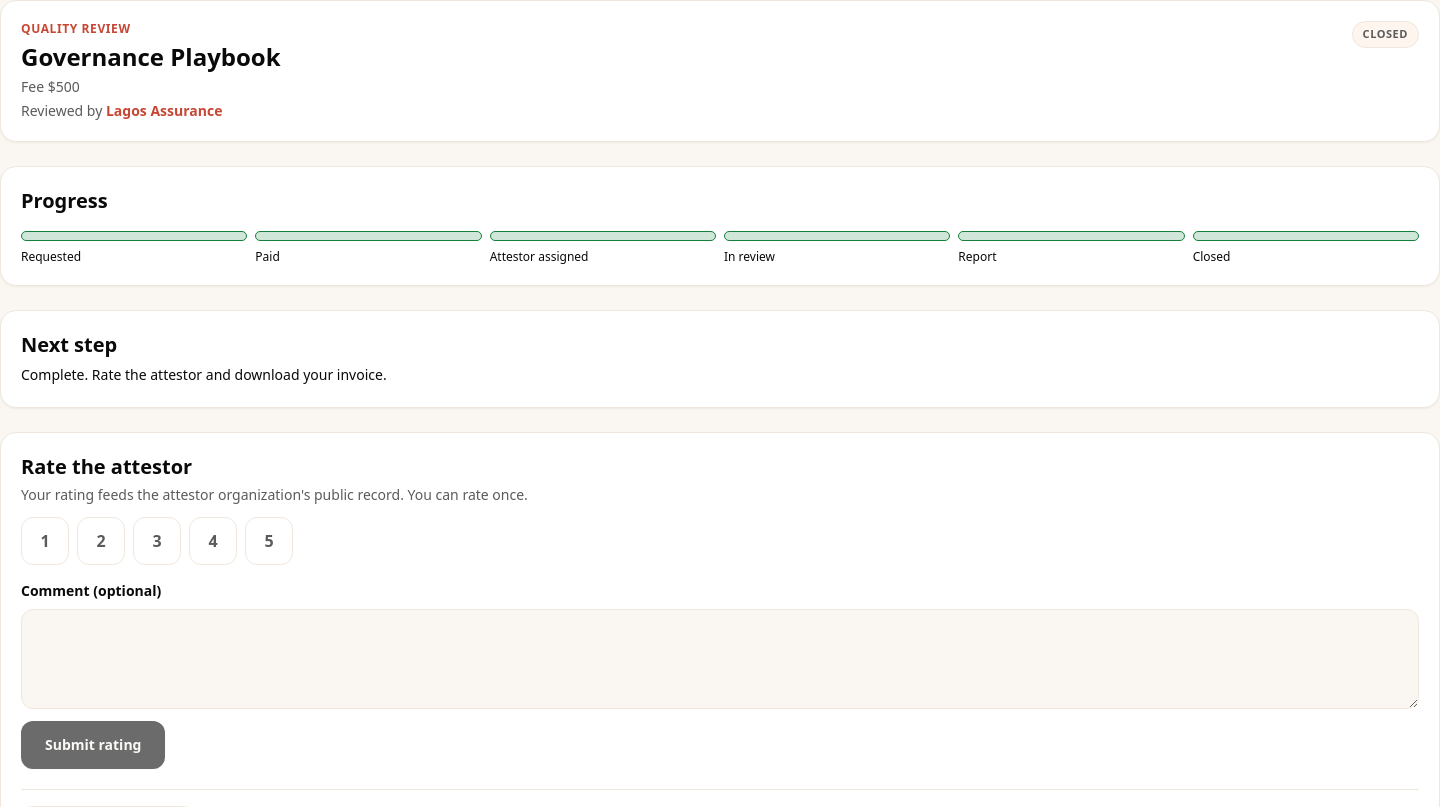
it: AttestationDetail settled request › treats an already-rated attestation as rated
Click the button named "5 stars".
click(269, 541)  # box [245,517,293,565]
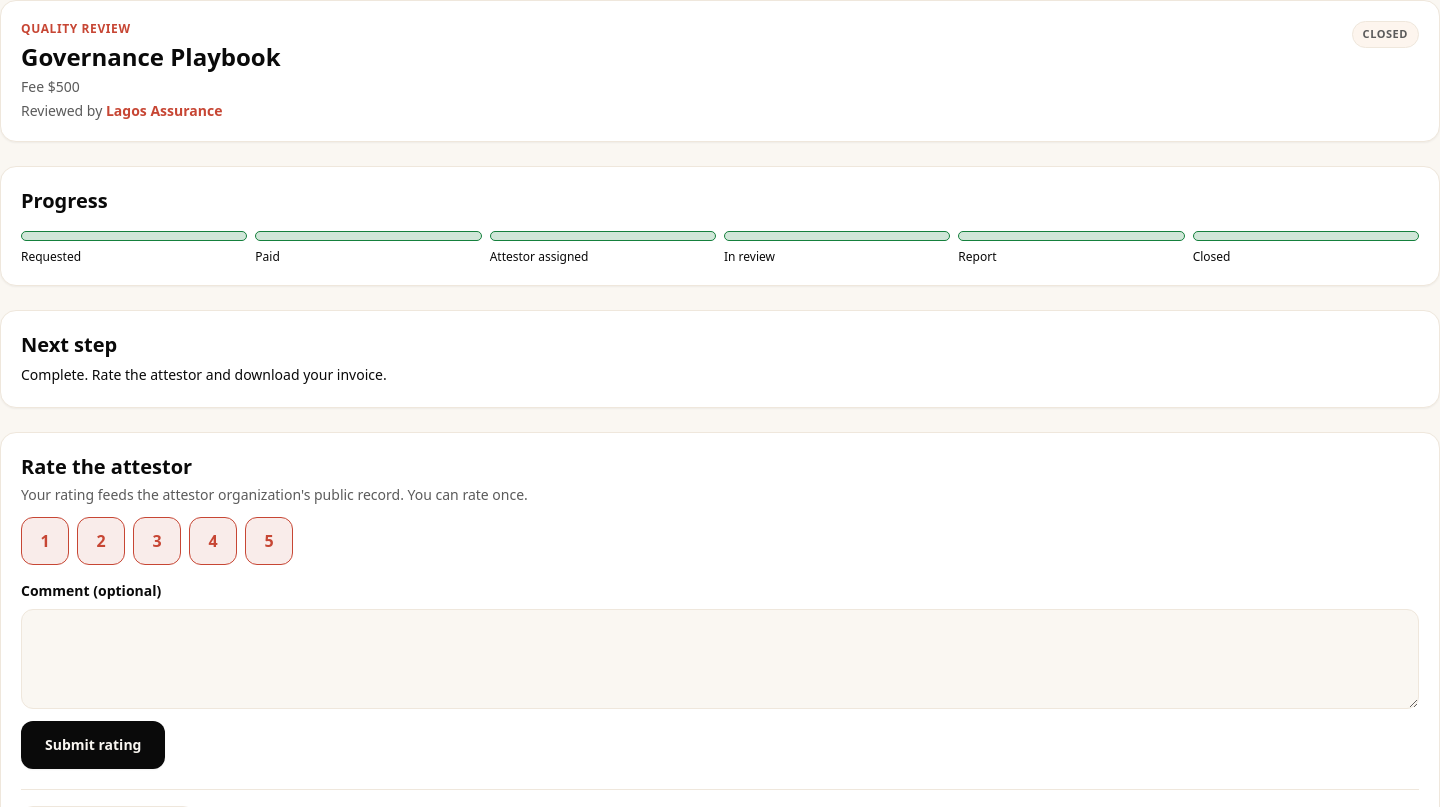
Click the button "Submit rating".
click(93, 745)  # box [21,721,166,769]
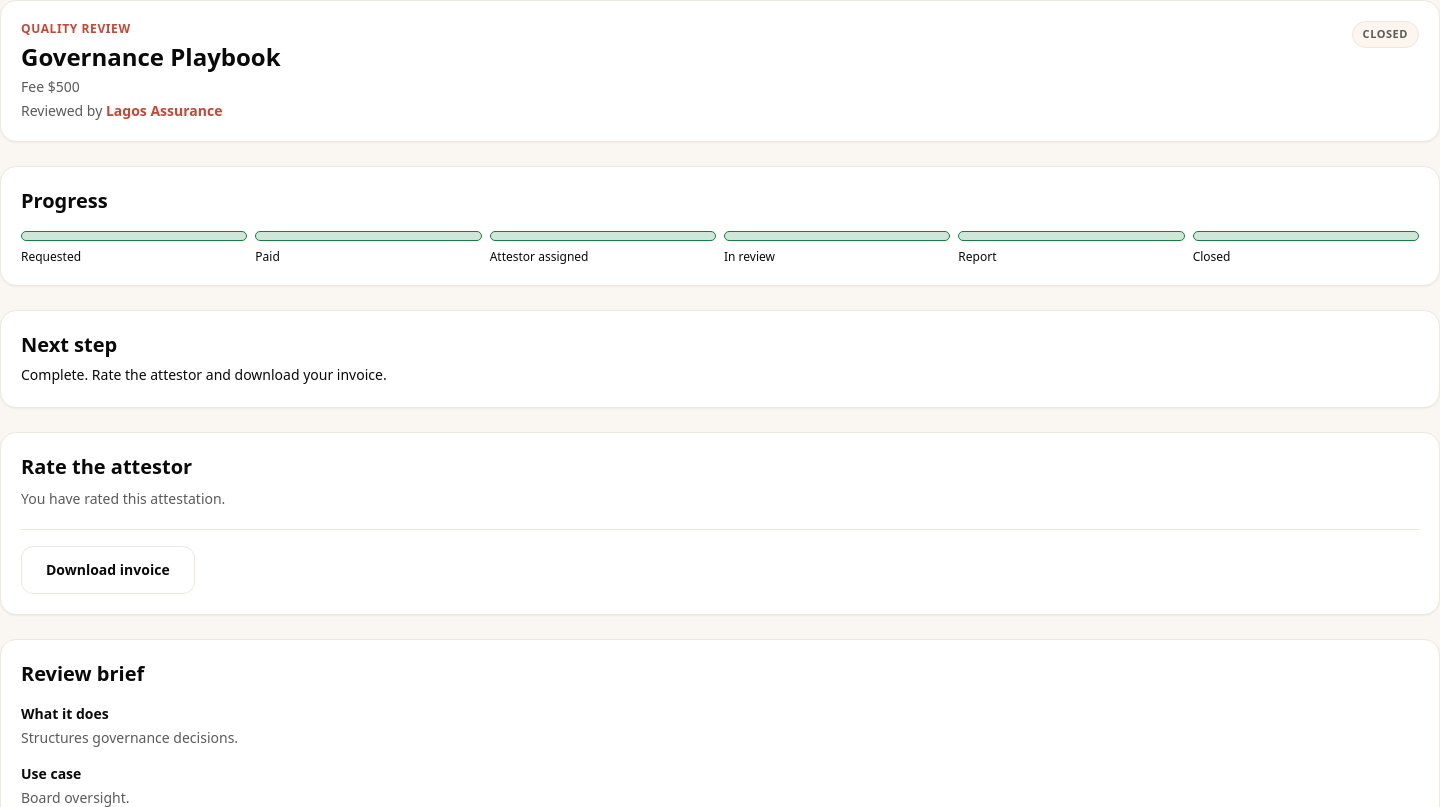
Now the text "You have rated this attestation." is shown, box [21,489,225,508]
